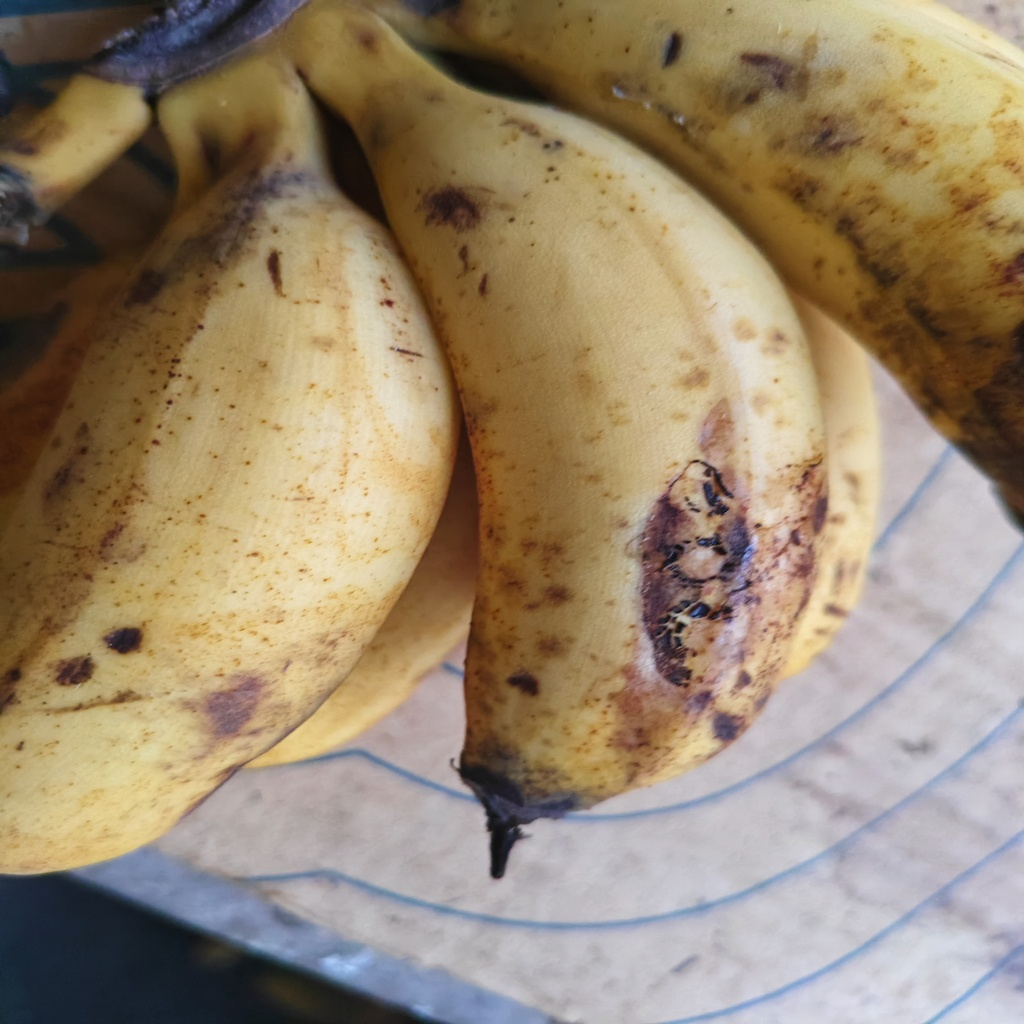unhealthy: (7, 155, 457, 886), (359, 135, 829, 824)
